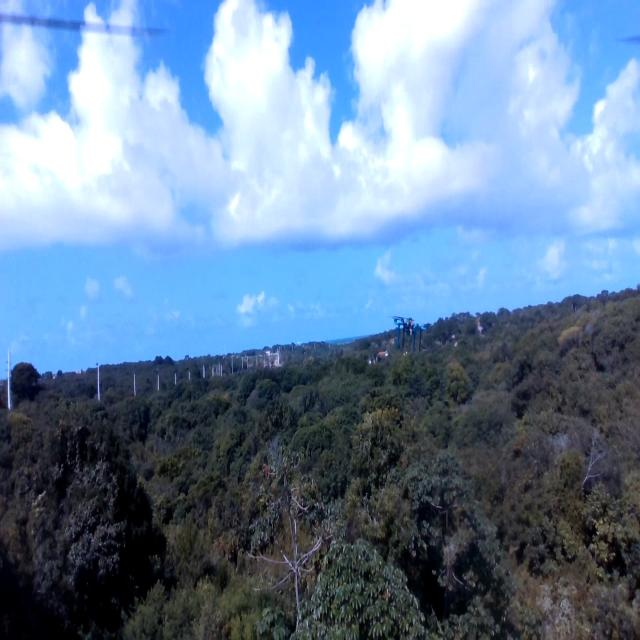-uav-: (380, 293, 433, 371)
